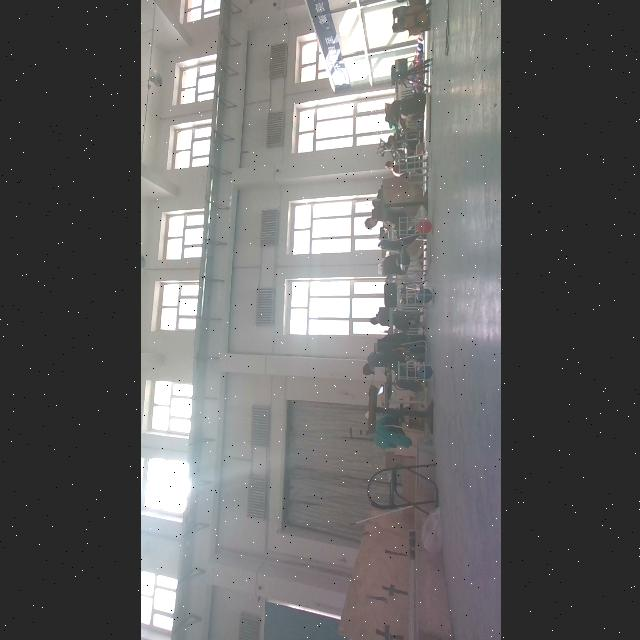B: (418, 363, 432, 382), (416, 287, 432, 303)
R: (418, 219, 430, 235)
S: (396, 282, 434, 308), (396, 213, 434, 239), (396, 358, 434, 384), (396, 155, 434, 179)
